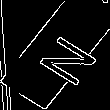N_NW: (19, 24, 91, 86)
